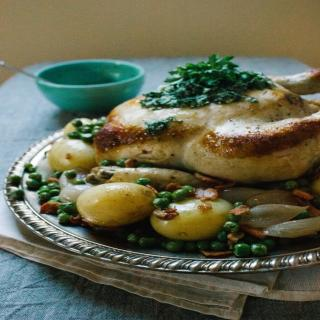Potato: (72, 180, 158, 230)
